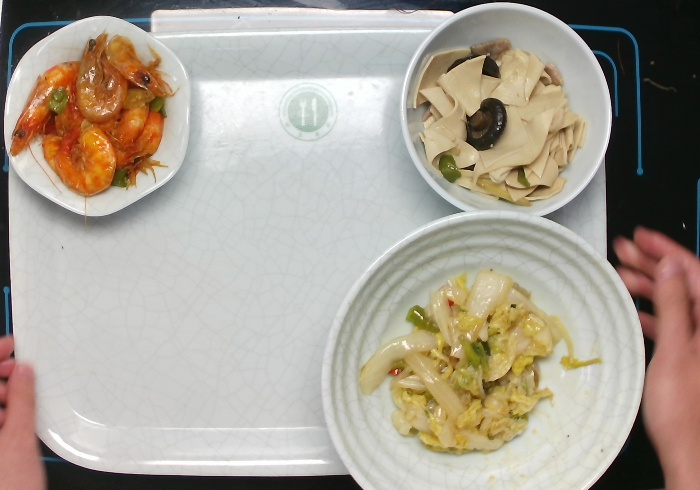JYsf-Da_Tang_Wan: (316, 207, 648, 490)
JYsf-Fan_Wan: (400, 2, 614, 225)
WCQzf-Hua_Duo_Wan: (3, 14, 195, 221)
